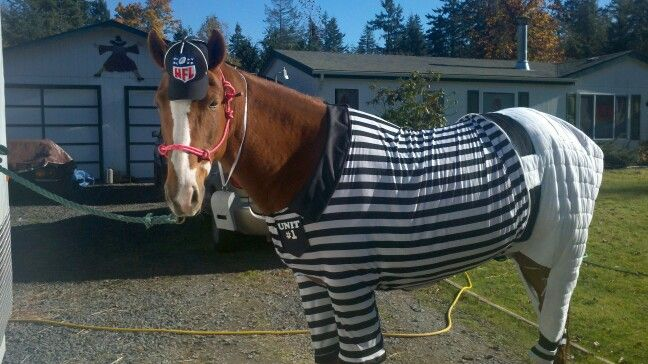Horse: (127, 20, 618, 360)
